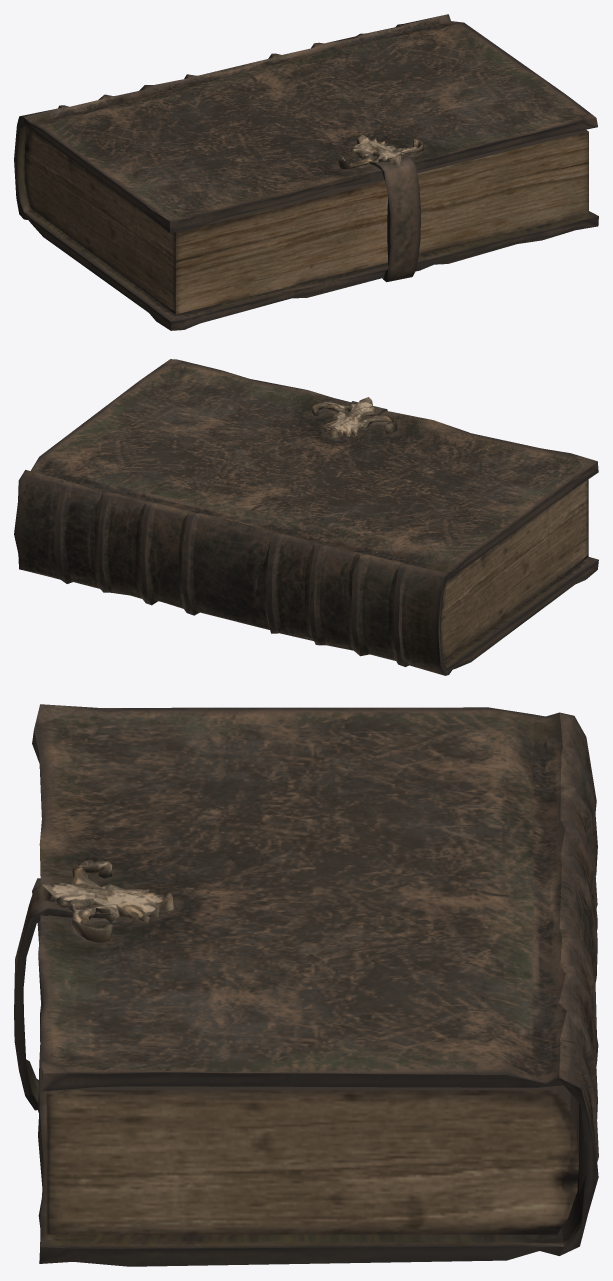
File: SM_Book01.fbx
3 renders of one model, top to bottom at view 1: azimuth 30°, elevation 25°; view 2: azimuth 150°, elevation 25°; view 3: azimuth 270°, elevation 25°, orthographic. The views are drawn at different scales.
Visible parts, largest first — view 1: SM_Book01_LOD0; view 2: SM_Book01_LOD0; view 3: SM_Book01_LOD0.
Part boxes in pixels (box(x1,y1,x2,y2)): SM_Book01_LOD0: box(14, 14, 598, 330); SM_Book01_LOD0: box(14, 359, 598, 675); SM_Book01_LOD0: box(14, 704, 598, 1266).
Bounding box in the file's own units: 34.19 × 22.89 × 9.33.
